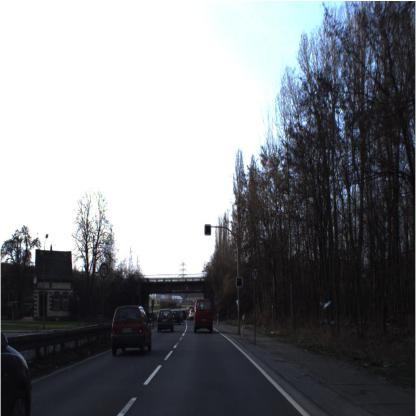prohibitory: (250, 262, 261, 283), (99, 262, 110, 280)
